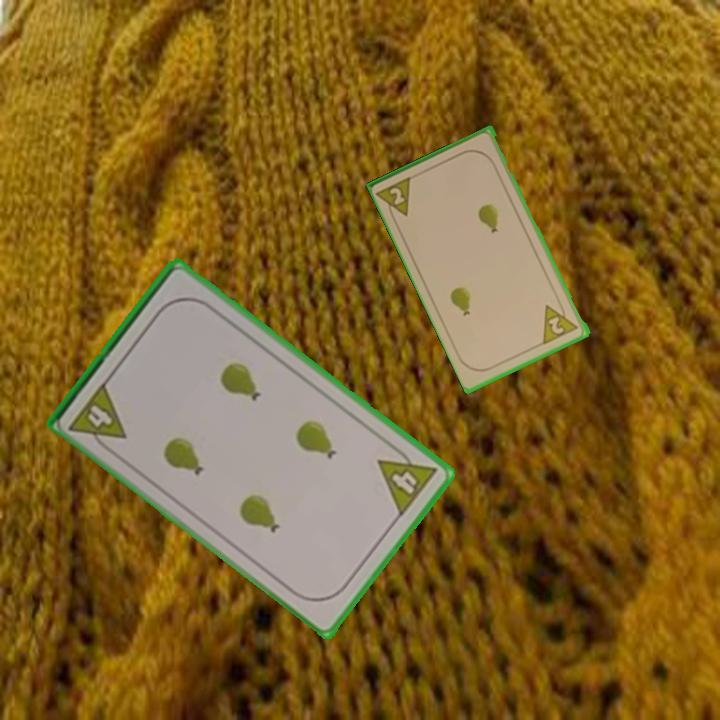2p: (375, 172, 417, 225), (539, 297, 582, 347)
4p: (374, 439, 441, 520), (65, 378, 130, 456)
